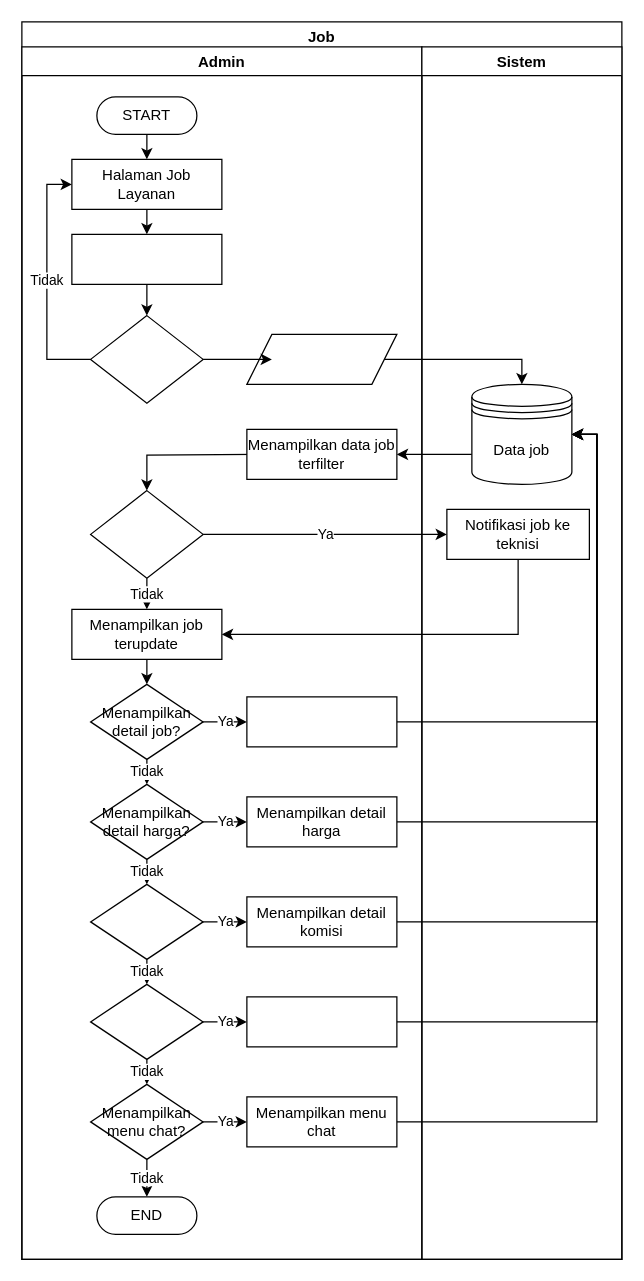
This 644x1281 diagram has some shape labels left out. The centre of each missing label's shape, as x and y in pixels:
Filter status/ customer/ teknisi ?: the point at 146,358
Input filter: the point at 321,358
Menampilkan data job terbaru: the point at 146,258
Menampilkan detail job: the point at 321,721
Menampilkan detail komisi?: the point at 146,921
Menampilkan detail teknisi: the point at 321,1021
Menampilkan detail teknisi?: the point at 146,1021
Reassign teknisi ?: the point at 146,533
